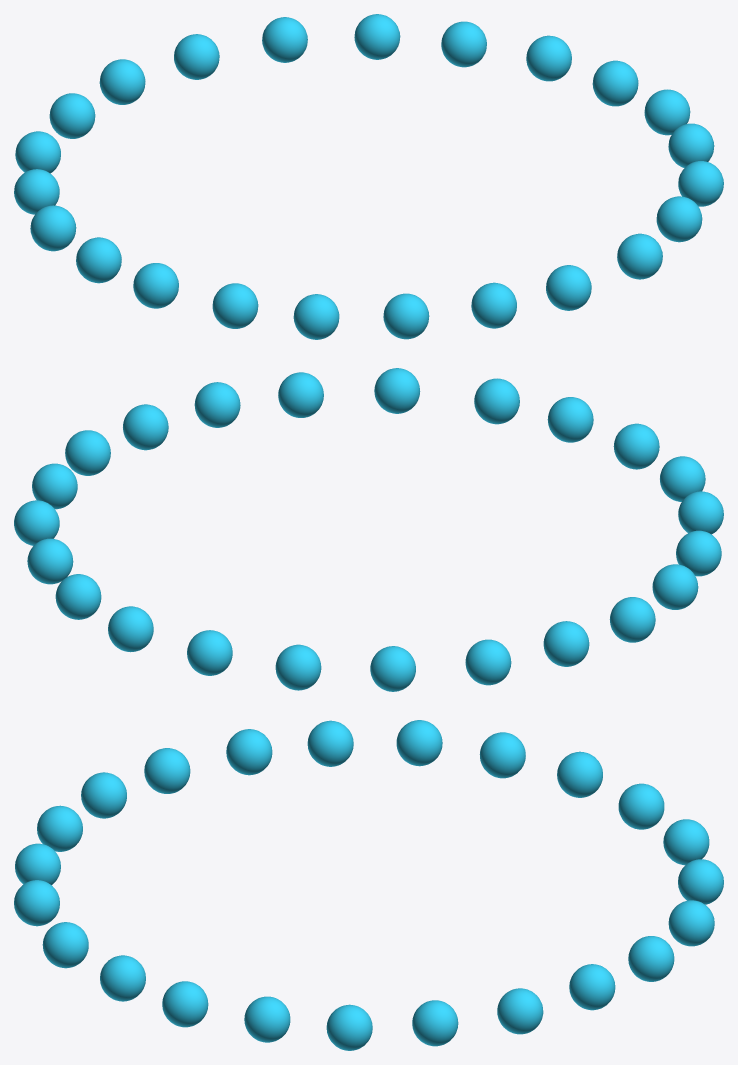
The picture shows the model from 3 angles, top to bottom: view 1: azimuth 30°, elevation 25°; view 2: azimuth 150°, elevation 25°; view 3: azimuth 270°, elevation 25°; orthographic projection.
Visible parts, largest first — view 1: Sphere048; view 2: Sphere048; view 3: Sphere048.
Part boxes in pixels (<box>): Sphere048: <box>14,14,723,339</box>; Sphere048: <box>14,368,723,691</box>; Sphere048: <box>14,720,723,1050</box>.
Size of the model in its own units: 128 by 8.22 by 126.
